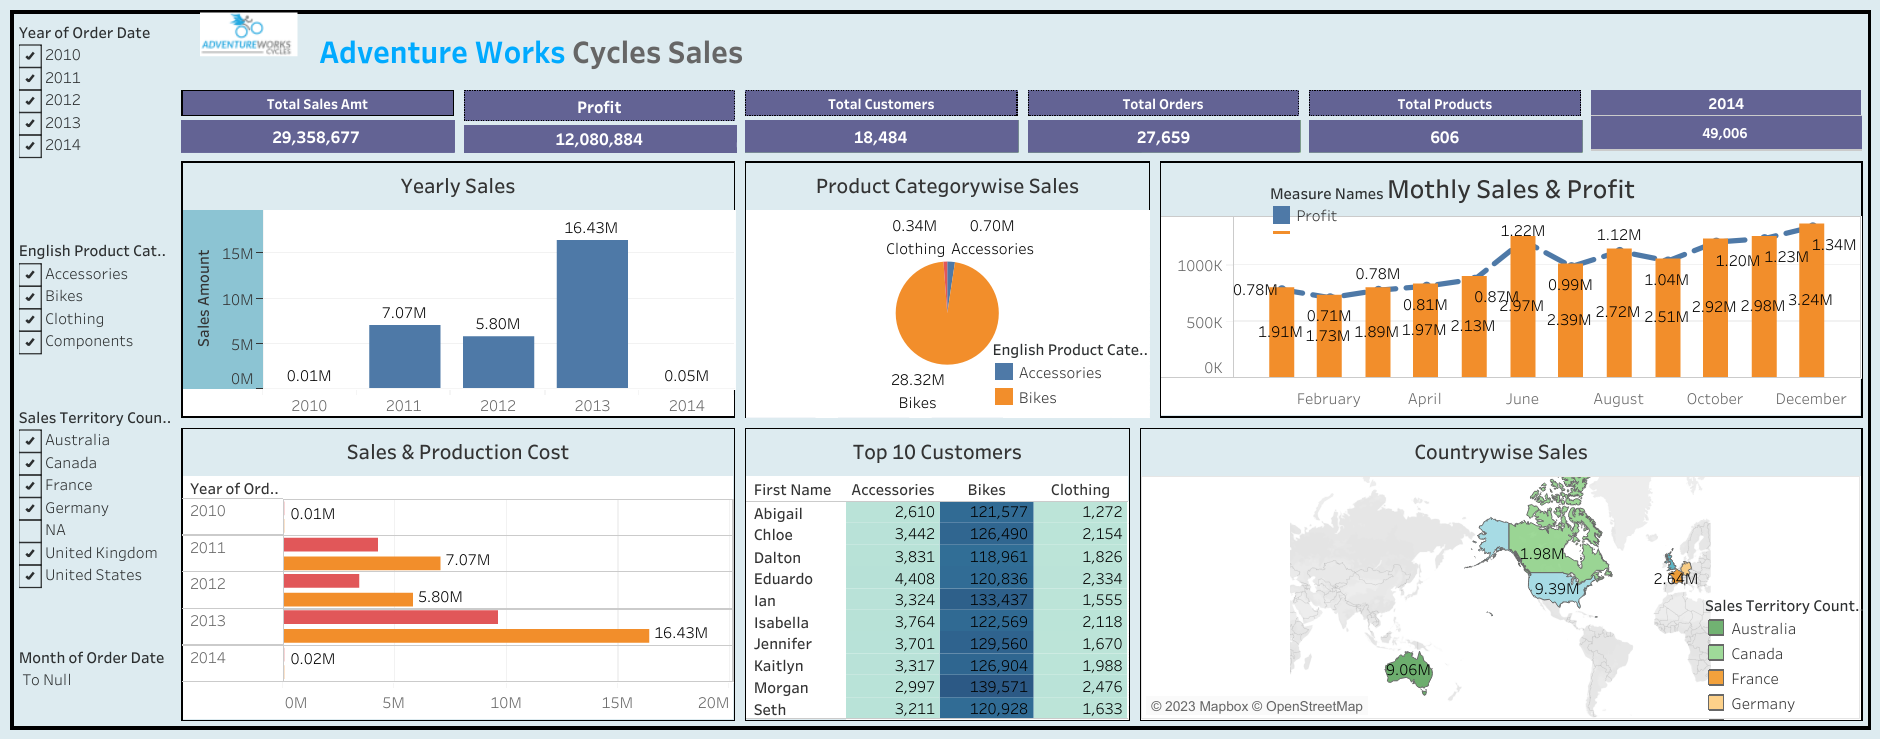

The page's visual inventory and layout, read from the dashboard file:
{"tool":"tableau","page":{"name":"Dashboard 1","canvas":[1000,1000],"units":"permille","ordinal":0},"visuals":[{"type":"filter","title":"YearlySales","param":"[federated.1b4n1cc1u0nuq31dn5ujc0xd1te4].[tyr:OrderDate:ok]","box":[6.6,12.9,86.7,205.6]},{"type":"title","box":[93.4,12.9,900,67]},{"type":"image","param":"Image/Screenshot 2023-06-25 141305.png","box":[22.9,16.4,218.5,58.8]},{"type":"worksheet","title":"TtlSales","mark":"Automatic","box":[93.4,79.9,150,67]},{"type":"worksheet","title":"Profit","mark":"Automatic","box":[243.4,79.9,150,67]},{"type":"worksheet","title":"TtlCust","mark":"Automatic","box":[393.4,79.9,150,67]},{"type":"worksheet","title":"TtlOrders","mark":"Automatic","box":[543.3,79.9,150,67]},{"type":"worksheet","title":"TtlProduct","mark":"Automatic","box":[693.3,79.9,150,67]},{"type":"worksheet","title":"PrevYearSales","mark":"Automatic","cols":["OrderDate"],"box":[843.3,79.9,150,67]},{"type":"worksheet","title":"YearlySales","mark":"Bar","rows":["SalesAmount"],"cols":["OrderDate"],"box":[93.4,146.9,300,424.9]},{"type":"worksheet","title":"ProdCatSales","mark":"Pie","box":[393.3,146.9,221,424.9]},{"type":"worksheet","title":"Sales &Profit","mark":"Bar","rows":["Calculation_1062568075780513792","SalesAmount"],"cols":["OrderDate"],"box":[614.4,146.9,379,424.9]},{"type":"filter","title":"ProdCatSales","param":"[federated.1b4n1cc1u0nuq31dn5ujc0xd1te4].[none:EnglishProductCategoryName:nk]","box":[6.6,218.6,86.7,177.4]},{"type":"legend","title":"Sales &Profit","param":"[federated.1b4n1cc1u0nuq31dn5ujc0xd1te4].[:Measure Names]","box":[674.7,240.9,84.5,75.2]},{"type":"filter","title":"CountryWiseSales","param":"[federated.1b4n1cc1u0nuq31dn5ujc0xd1te4].[none:SalesTerritoryCountry:nk]","box":[6.6,396,86.7,258.5]},{"type":"legend","title":"ProdCatSales","param":"[federated.1b4n1cc1u0nuq31dn5ujc0xd1te4].[none:EnglishProductCategoryName:nk]","box":[526.6,452.4,84.6,99.9]},{"type":"worksheet","title":"Sales & ProdCost","mark":"Bar","rows":["OrderDate"],"box":[93.4,571.7,300,415.3]},{"type":"worksheet","title":"Top10Cust","mark":"Square","rows":["FirstName"],"cols":["EnglishProductCategoryName"],"box":[393.3,571.7,210.3,415.3]},{"type":"worksheet","title":"CountryWiseSales","mark":"Multipolygon","box":[603.6,571.7,389.7,415.3]},{"type":"filter","title":"Sales &Profit","param":"[federated.1b4n1cc1u0nuq31dn5ujc0xd1te4].[mn:OrderDate:qk]","box":[6.6,654.5,86.7,85.8]},{"type":"legend","title":"CountryWiseSales","param":"[federated.1b4n1cc1u0nuq31dn5ujc0xd1te4].[none:SalesTerritoryCountry:nk]","box":[905.9,799.1,84.5,173.9]}]}

Visuals, with their boxes on the dashboard's canvas, which has no fixed pixel size, in thousandths of its width and height (x1, y1, x2, y2). These are canvas units, not pixel positions in the 1880x739 screenshot, which may show the page scaled, cropped or inside an application window:
"YearlySales" filter: (left=7, top=13, right=93, bottom=218)
title: (left=93, top=13, right=993, bottom=80)
image: (left=23, top=16, right=241, bottom=75)
"TtlSales" worksheet: (left=93, top=80, right=243, bottom=147)
"Profit" worksheet: (left=243, top=80, right=393, bottom=147)
"TtlCust" worksheet: (left=393, top=80, right=543, bottom=147)
"TtlOrders" worksheet: (left=543, top=80, right=693, bottom=147)
"TtlProduct" worksheet: (left=693, top=80, right=843, bottom=147)
"PrevYearSales" worksheet: (left=843, top=80, right=993, bottom=147)
"YearlySales" worksheet (Bar marks): (left=93, top=147, right=393, bottom=572)
"ProdCatSales" worksheet (Pie marks): (left=393, top=147, right=614, bottom=572)
"Sales &Profit" worksheet (Bar marks): (left=614, top=147, right=993, bottom=572)
"ProdCatSales" filter: (left=7, top=219, right=93, bottom=396)
"Sales &Profit" legend: (left=675, top=241, right=759, bottom=316)
"CountryWiseSales" filter: (left=7, top=396, right=93, bottom=654)
"ProdCatSales" legend: (left=527, top=452, right=611, bottom=552)
"Sales & ProdCost" worksheet (Bar marks): (left=93, top=572, right=393, bottom=987)
"Top10Cust" worksheet (Square marks): (left=393, top=572, right=604, bottom=987)
"CountryWiseSales" worksheet (Multipolygon marks): (left=604, top=572, right=993, bottom=987)
"Sales &Profit" filter: (left=7, top=654, right=93, bottom=740)
"CountryWiseSales" legend: (left=906, top=799, right=990, bottom=973)
